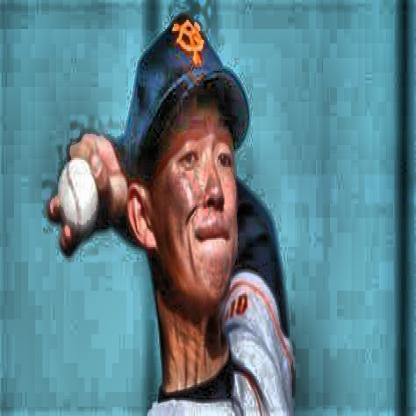baseball: (58, 152, 97, 236)
